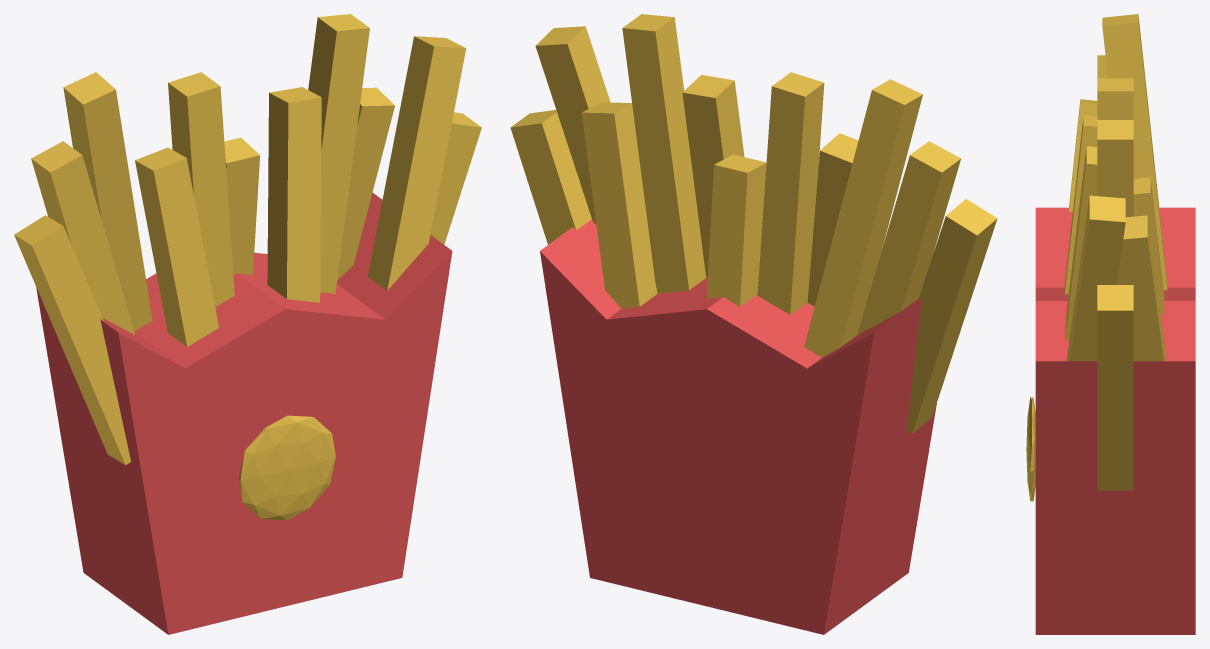
Rendered from fries.glb.
The picture shows the model from 3 angles, left to right: view 1: azimuth 30°, elevation 25°; view 2: azimuth 150°, elevation 25°; view 3: azimuth 270°, elevation 25°; orthographic projection. The views are drawn at different scales.
Visible parts, largest first — view 1: fries; view 2: fries; view 3: fries.
Part boxes in pixels (<box>): fries: <box>14,14,481,634</box>; fries: <box>510,14,997,634</box>; fries: <box>1026,14,1195,634</box>.
Bounding box in the file's own units: 0.1373 × 0.1517 × 0.0465.
